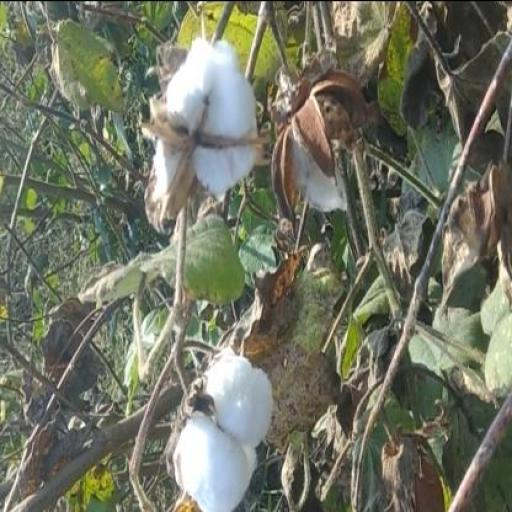cotton_ready: (133, 28, 258, 239), (164, 328, 278, 511)
